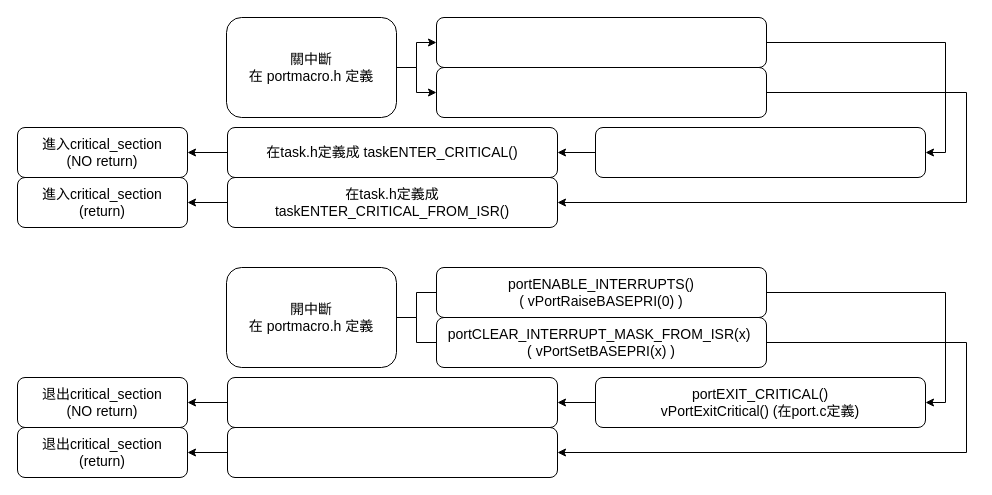
Some shapes in this 992 by 495 pixel diagram are drawn without their labels. The box of each missing label's shape, as (x1, y1, x2, y2) in pixels:
portDISABLE_INTERRUPTS() ( vPortRaiseBASEPRI() ): (436, 16, 766, 68)
portENTER_CRITICAL() vPortEnterCritical() (在port.c定義): (594, 126, 926, 178)
portSET_INTERRUPT_MASK_FROM_ISR() ( ulPortRaiseBASEPRI() ): (436, 66, 766, 118)
在task.h定義成 taskEXIT_CRITICAL(): (226, 376, 558, 428)
在task.h定義成 taskEXIT_CRITICAL_FROM_ISR(x): (226, 426, 558, 478)
